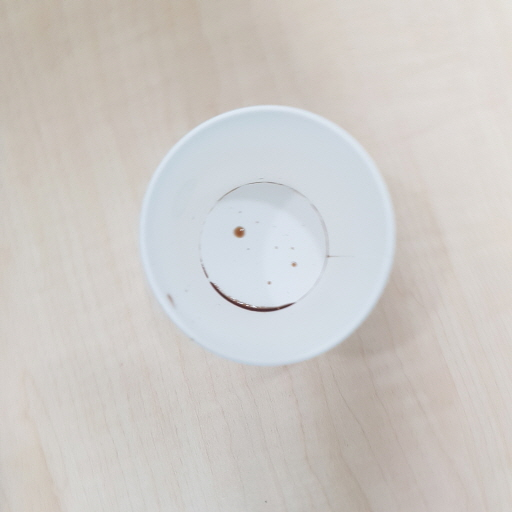Paper_1: (135, 104, 400, 365)
